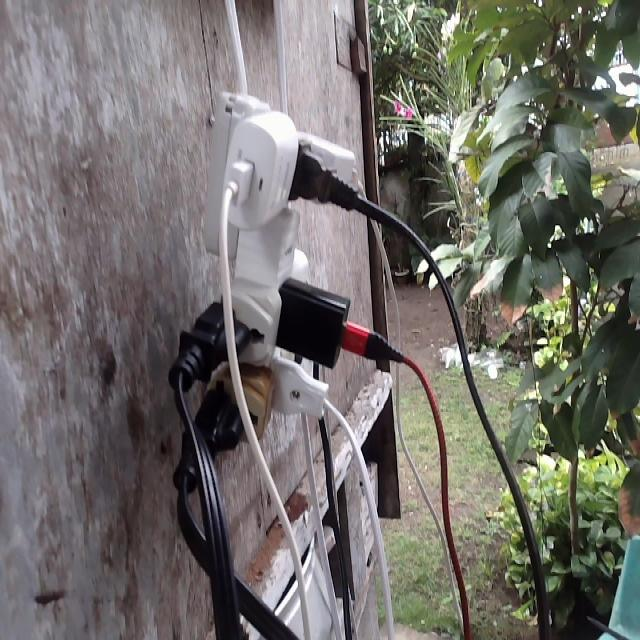-: (166, 88, 371, 485)
